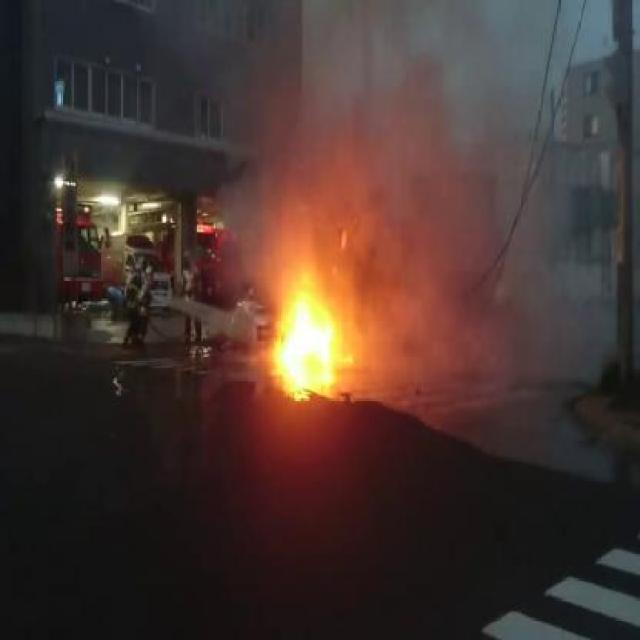Fire: (272, 288, 330, 359)
